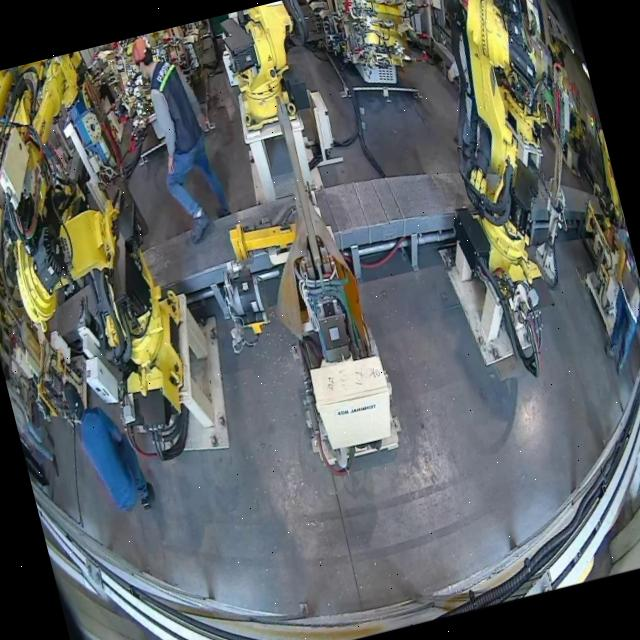Person: (128, 26, 236, 248), (60, 368, 158, 523)
